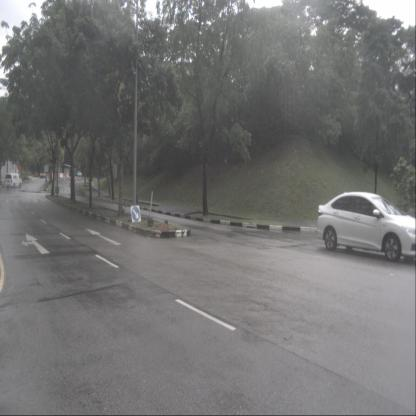movable_object-barrier: (46, 173, 51, 178), (54, 174, 59, 178), (50, 173, 54, 178), (63, 173, 67, 178), (59, 173, 63, 177)
vehicle-car: (316, 191, 416, 263), (5, 173, 22, 188)
vehicle-truck: (40, 170, 46, 178)
